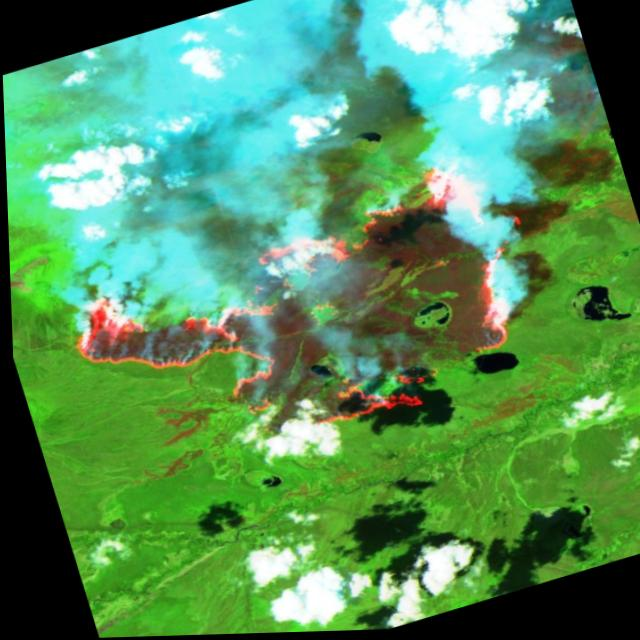fire: (35, 136, 572, 510)
